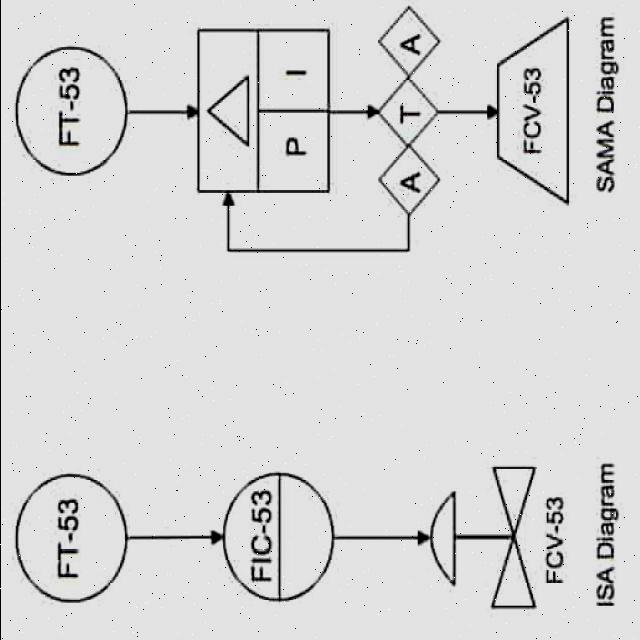Pneumatic-Diaphragm Gate Valve: (422, 456, 542, 620)
